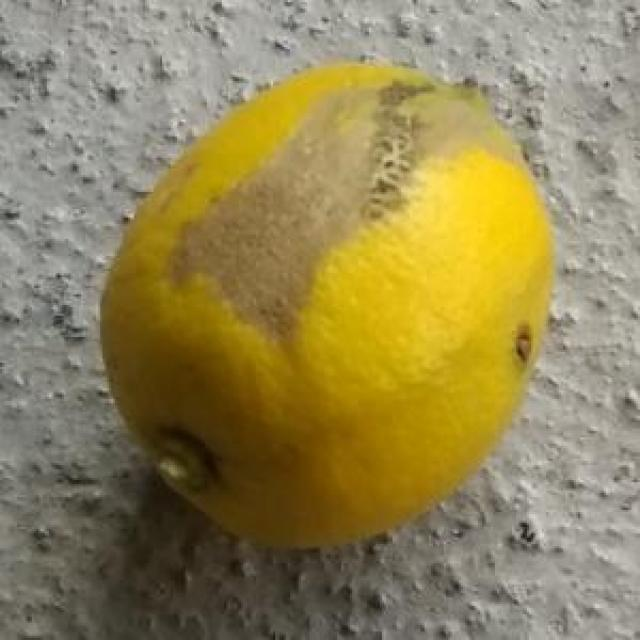lemon: (94, 57, 553, 558)
